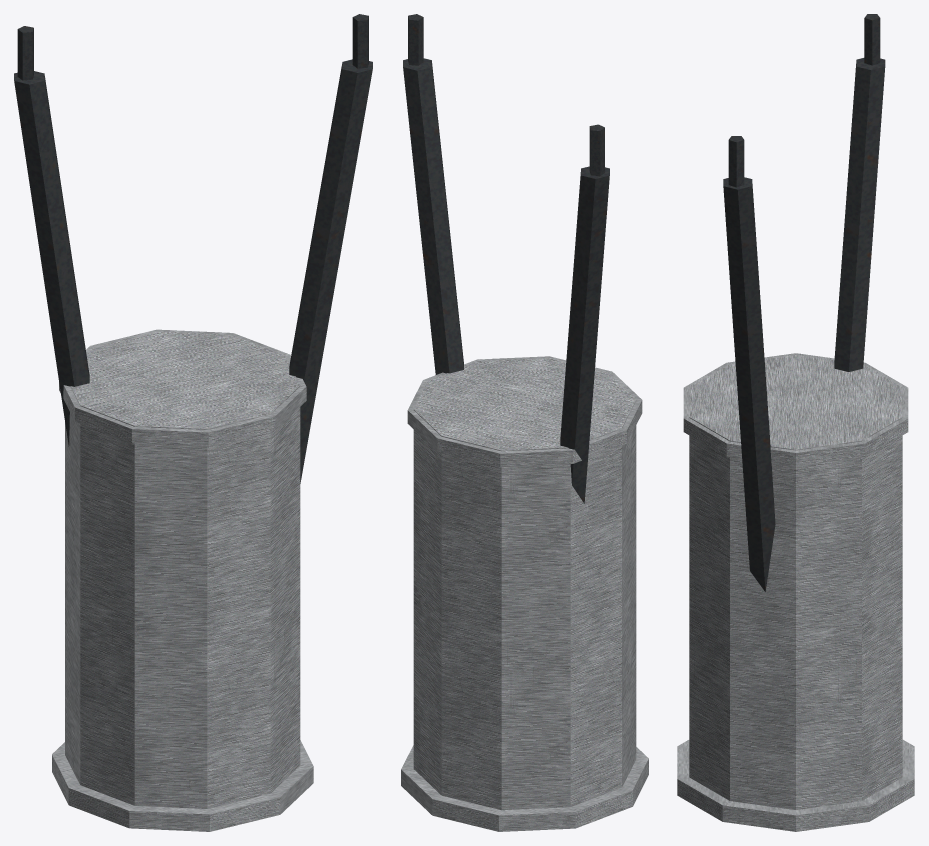
The model's file is umbrella_stand.glb.
3 renders of one model, left to right at view 1: azimuth 30°, elevation 25°; view 2: azimuth 150°, elevation 25°; view 3: azimuth 270°, elevation 25°, orthographic. The views are drawn at different scales.
Parts seen in each view (by area): view 1: umbrella_stand; view 2: umbrella_stand; view 3: umbrella_stand.
Part boxes in pixels (x1,y1,x2,y2): umbrella_stand: (14,14,372,831); umbrella_stand: (401,14,648,831); umbrella_stand: (677,14,914,831).
Bounding box in the file's own units: 0.38 × 0.94 × 0.2853.
2 materials, 2 textured.
